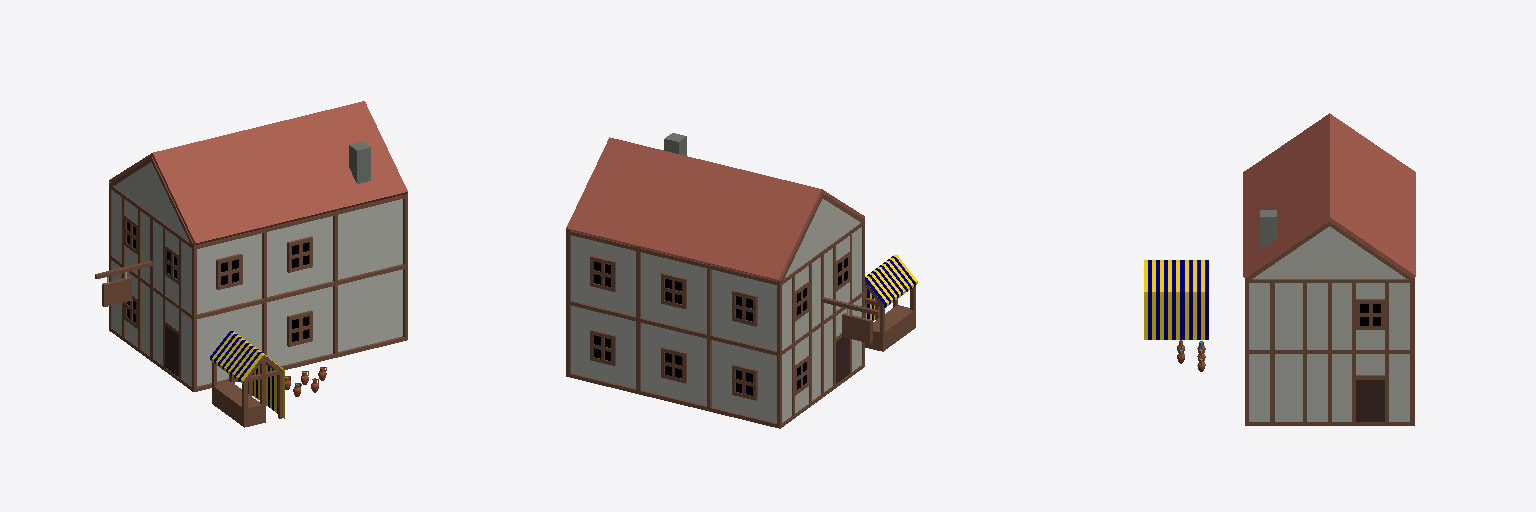
The model's file is timberframedpotter_blue_yellow.obj.
3 views of the same model, side by side, from view 1: azimuth 30°, elevation 25°; view 2: azimuth 150°, elevation 25°; view 3: azimuth 270°, elevation 25° (orthographic).
Visible parts, largest first — view 1: Cube.005, Cube.007_Cube.011, Cube.011_Cube.015, Cube.018_Cube.016, Cube.056_Cube.081, Cube.001_Cube.058, Cube.013_Cube.080, Cube.006_Cube.010, Cube.055_Cube.059, Cube.026_Cube.019, Cube.073_Cube.078, Cube.012_Cube.017 (+5 smaller); view 2: Cube.005, Cube.007_Cube.011, Cube.022_Cube.025, Cube.023_Cube.026, Cube.021_Cube.024, Cube.015_Cube.020, Cube.019_Cube.022, Cube.017_Cube.021, Cube.014_Cube.018, Cube.008, Cube.020_Cube.023, Cube.073_Cube.078 (+6 smaller); view 3: Cube.005, Cube.007_Cube.011, Cube.147_Cube.153, Cube.003, Cube.033, Cube.027, Cube.047_Cube.049, Cube.031, Cube.016_Cube.013, Cube.006_Cube.010, Cube.032, Cube.012_Cube.017 (+4 smaller).
Part boxes in pixels (x1,y1,x2,y2): Cube.005: (112, 162, 402, 385); Cube.007_Cube.011: (109, 101, 407, 244); Cube.011_Cube.015: (195, 264, 404, 319); Cube.018_Cube.016: (195, 195, 406, 249); Cube.056_Cube.081: (216, 254, 242, 289); Cube.001_Cube.058: (287, 310, 312, 346); Cube.013_Cube.080: (287, 236, 312, 272); Cube.006_Cube.010: (349, 141, 370, 183); Cube.055_Cube.059: (195, 336, 406, 391); Cube.026_Cube.019: (192, 243, 196, 391); Cube.073_Cube.078: (102, 277, 131, 306); Cube.012_Cube.017: (403, 193, 407, 339); Cube.005: (571, 199, 861, 422); Cube.007_Cube.011: (566, 137, 864, 280); Cube.022_Cube.025: (567, 301, 778, 355); Cube.023_Cube.026: (567, 373, 776, 427); Cube.021_Cube.024: (570, 231, 776, 284); Cube.015_Cube.020: (732, 290, 757, 326); Cube.019_Cube.022: (661, 347, 686, 383); Cube.017_Cube.021: (590, 330, 615, 365); Cube.014_Cube.018: (661, 273, 686, 308); Cube.008: (590, 255, 615, 291); Cube.020_Cube.023: (732, 364, 757, 400); Cube.073_Cube.078: (842, 313, 872, 343); Cube.005: (1249, 226, 1409, 421); Cube.007_Cube.011: (1243, 113, 1415, 277); Cube.147_Cube.153: (1144, 292, 1208, 339); Cube.003: (1356, 380, 1384, 421); Cube.033: (1356, 299, 1384, 329); Cube.027: (1410, 277, 1414, 425); Cube.047_Cube.049: (1270, 279, 1274, 423); Cube.031: (1248, 422, 1410, 425); Cube.016_Cube.013: (1248, 350, 1410, 353); Cube.006_Cube.010: (1260, 210, 1276, 249); Cube.032: (1248, 279, 1410, 282); Cube.012_Cube.017: (1245, 277, 1248, 425).
Bounding box in the file's own units: 15.3 × 11.25 × 13.34.